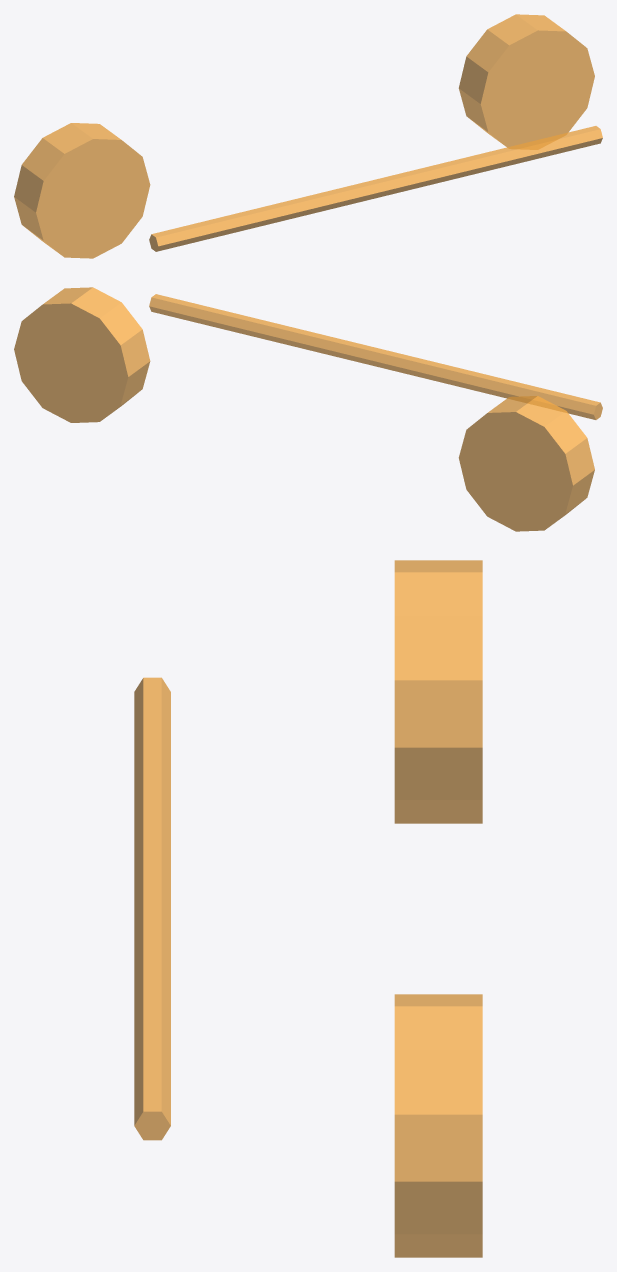
The model's file is 10_offmesh_link_helper.glb.
3 renders of one model, top to bottom at view 1: azimuth 30°, elevation 25°; view 2: azimuth 150°, elevation 25°; view 3: azimuth 270°, elevation 25°, orthographic. The views are drawn at different scales.
Parts seen in each view (by area): view 1: start, end, link; view 2: end, start, link; view 3: start, end, link.
Part boxes in pixels (x1=…): start: x1=14, y1=123, x2=150, y2=258; end: x1=458, y1=14, x2=594, y2=149; link: x1=149, y1=126, x2=602, y2=251; end: x1=14, y1=287, x2=150, y2=422; start: x1=458, y1=396, x2=594, y2=531; link: x1=149, y1=294, x2=602, y2=419; start: x1=394, y1=560, x2=482, y2=823; end: x1=394, y1=994, x2=482, y2=1257; link: x1=134, y1=677, x2=170, y2=1140.
Bounding box in the file's own units: 1.76 × 0.36 × 0.475.
